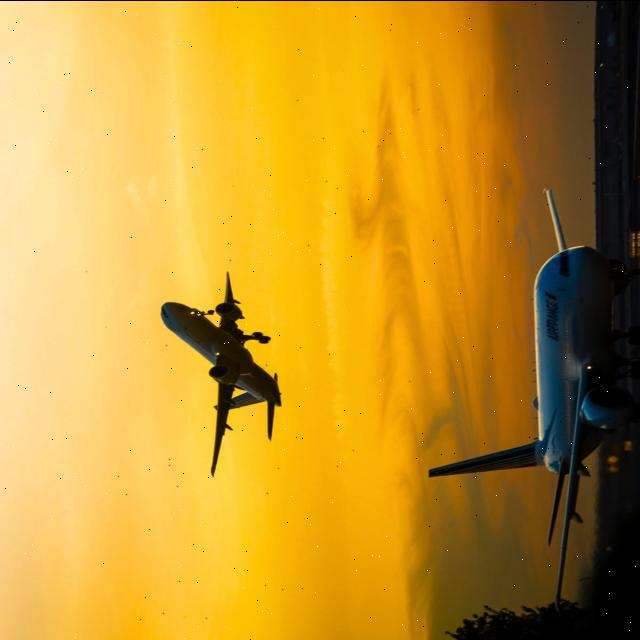aircraft: (372, 143, 640, 559), (114, 245, 334, 504)
